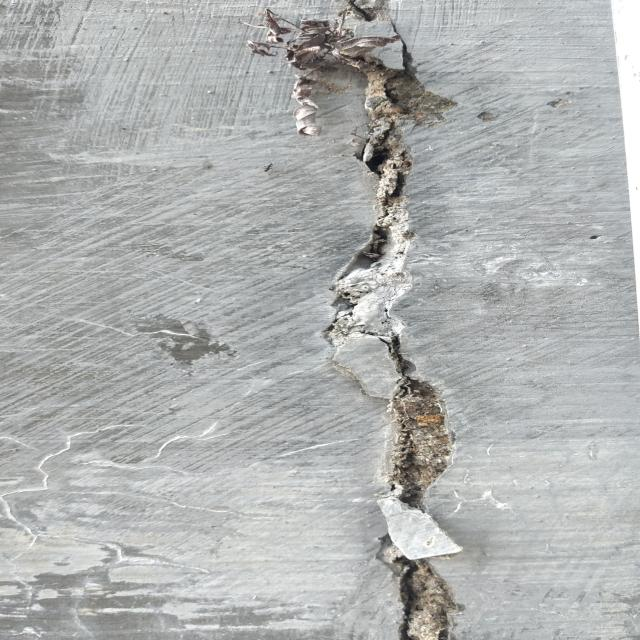Crack: (241, 0, 480, 638)
